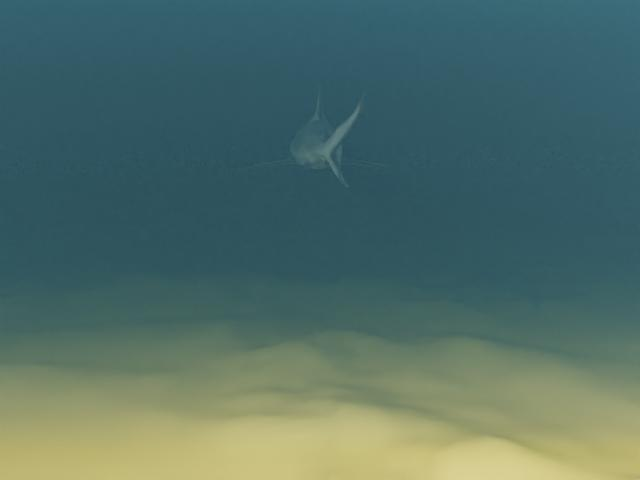Carribean Shark.001: (236, 86, 400, 188)
